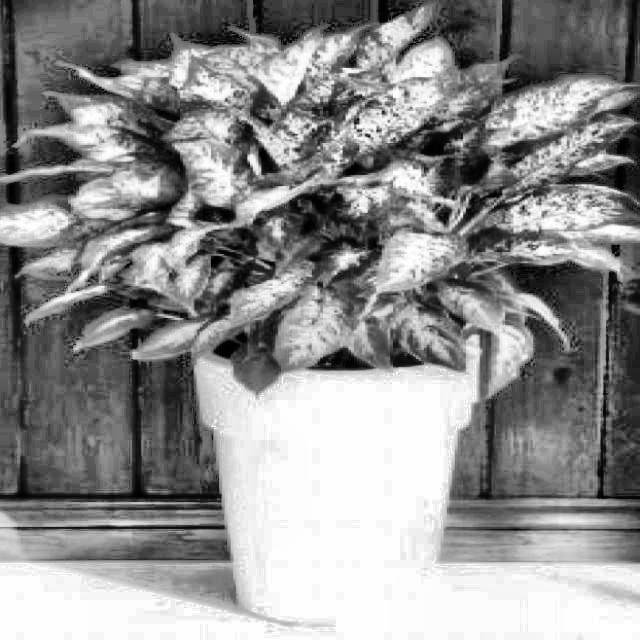plants: (84, 49, 616, 388)
